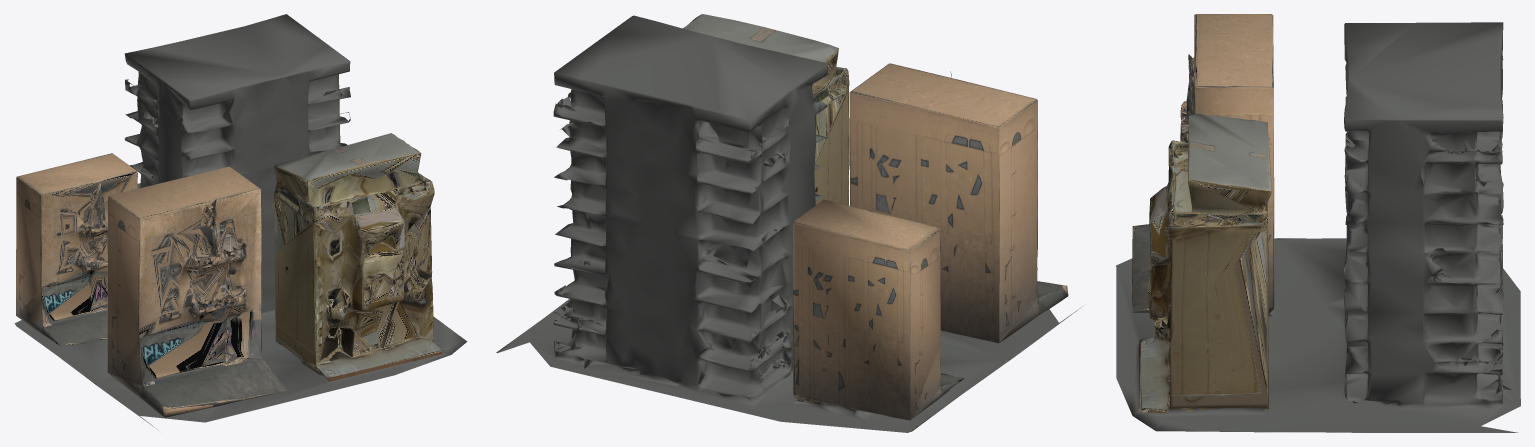
Rendered from City_LOD0.fbx.
3 views of the same model, side by side, from view 1: azimuth 30°, elevation 25°; view 2: azimuth 150°, elevation 25°; view 3: azimuth 270°, elevation 25° (orthographic). The views are drawn at different scales.
Parts seen in each view (by area): view 1: City_LOD0; view 2: City_LOD0; view 3: City_LOD0.
Boxes of the visible parts, x1,y1,x2,y2 form: City_LOD0: (14, 14, 467, 430); City_LOD0: (496, 14, 1082, 432); City_LOD0: (1116, 14, 1520, 432).
Bounding box in the file's own units: 161 × 112 × 142.
